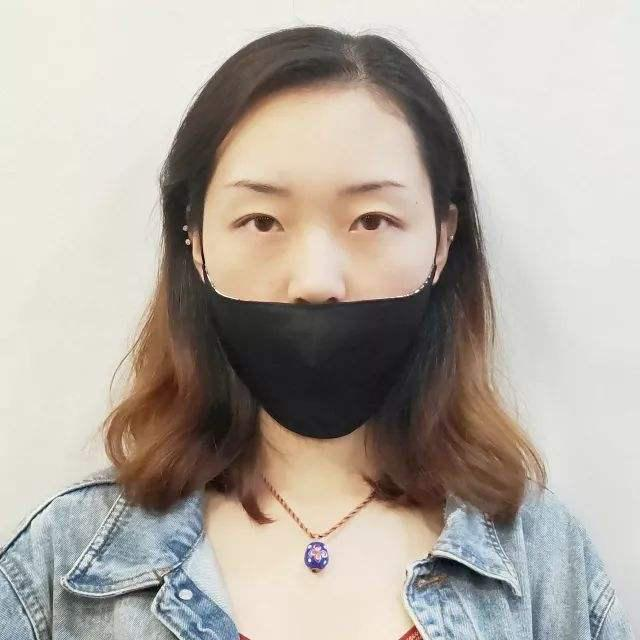WRONG: (203, 152, 437, 446)
